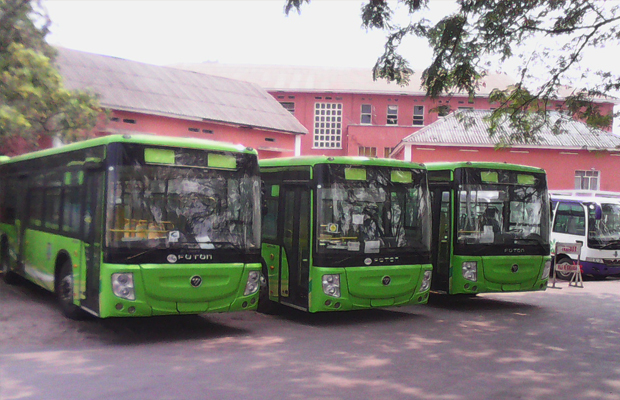bus: (38, 135, 261, 325), (265, 156, 431, 314), (437, 162, 550, 294)
